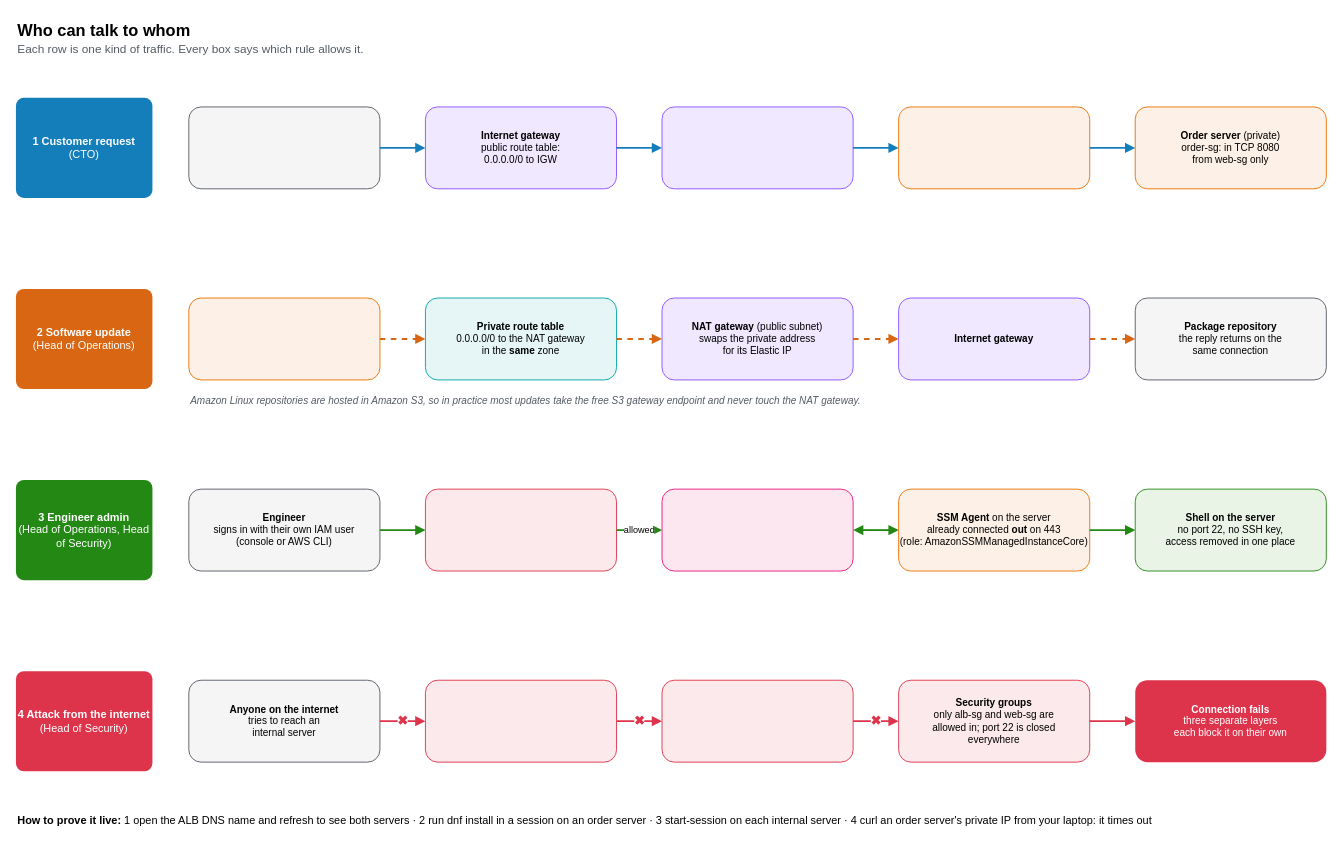
Some shapes in this 1342 by 868 pixel diagram are drawn without their labels. Here are the shapes that lost their labels. From the top down, the centre of each, then its label:
(284,147): Browser http://<ALB DNS name>
(757,147): Load balancer alb-sg: in TCP 80 from 0.0.0.0/0 health check / every few seconds
(994,147): Web server (private) web-sg: in TCP 80 from alb-sg only
(284,338): Order server sudo dnf install -y htop
(521,529): IAM check is this person allowed ssm:StartSession?
(757,529): Session Manager opens the session and records it in CloudTrail
(521,720): No public IP private servers have no address on the internet
(757,720): No route in a NAT gateway only lets replies back, never new connections
